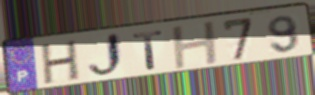7: (221, 16, 256, 63)
9: (265, 13, 303, 54)
H: (170, 19, 222, 71), (40, 38, 82, 87)
J: (86, 30, 128, 81)
T: (131, 29, 167, 72)
